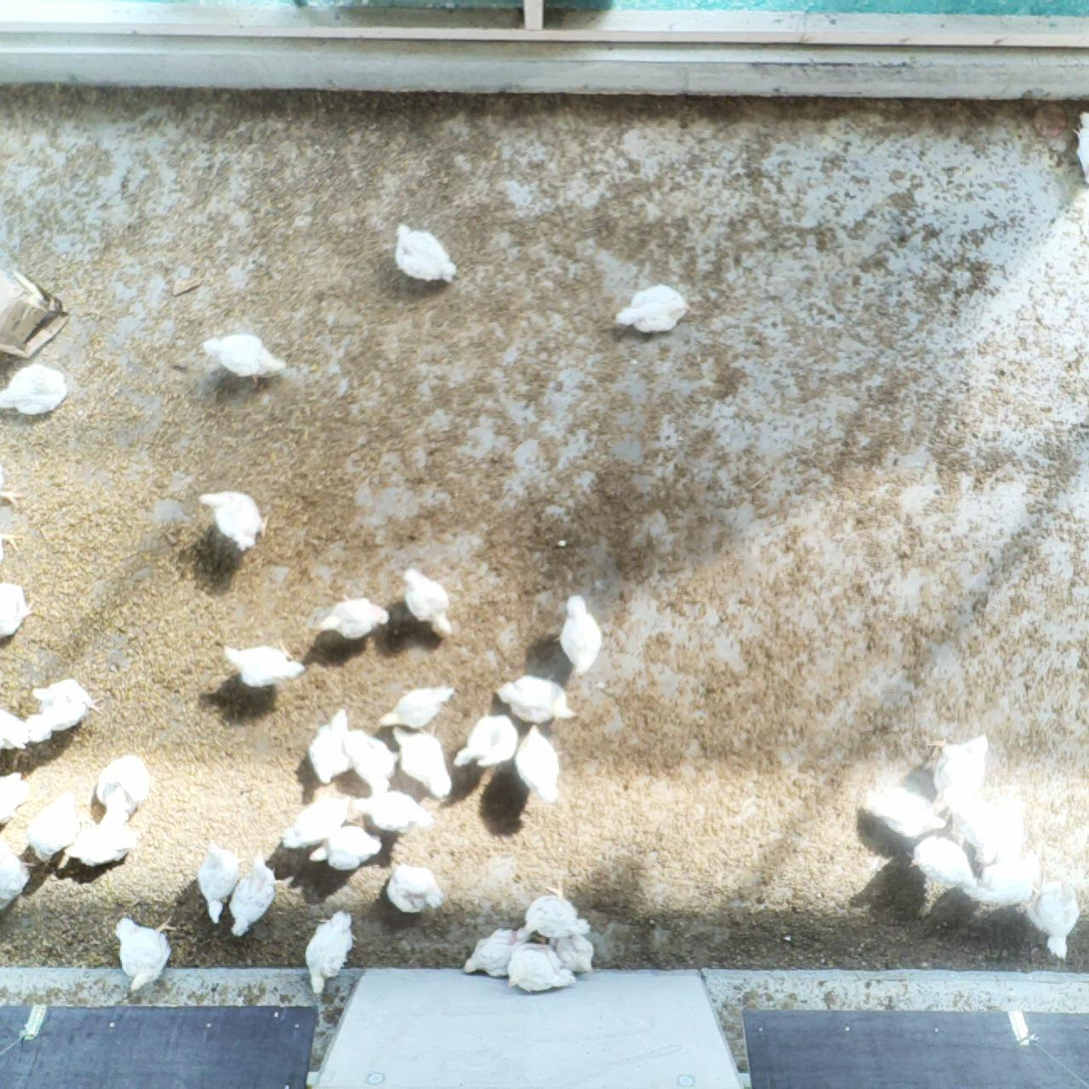chicken: (110, 913, 180, 993), (387, 721, 454, 802), (931, 730, 998, 810), (197, 485, 272, 555), (77, 790, 140, 870), (303, 905, 356, 999), (26, 677, 100, 744), (1028, 877, 1084, 962), (492, 674, 580, 728), (227, 847, 279, 938), (199, 330, 286, 384), (612, 278, 692, 335), (281, 791, 349, 857), (391, 221, 459, 286), (223, 639, 306, 692), (862, 786, 949, 835), (518, 880, 591, 938), (378, 681, 457, 734), (512, 723, 561, 808), (197, 837, 243, 927), (304, 704, 355, 785), (0, 361, 71, 419), (507, 940, 579, 997), (554, 593, 604, 674), (956, 800, 1019, 864), (348, 786, 432, 834), (30, 788, 81, 866), (304, 824, 386, 871), (465, 923, 533, 979), (452, 714, 518, 771), (971, 851, 1035, 907), (534, 920, 596, 977), (401, 565, 450, 637), (96, 752, 148, 819), (342, 731, 398, 793), (382, 861, 445, 914), (316, 592, 390, 637), (912, 835, 969, 890), (0, 829, 31, 913), (0, 578, 34, 641), (1068, 110, 1089, 191), (0, 767, 30, 822), (0, 704, 26, 754)
